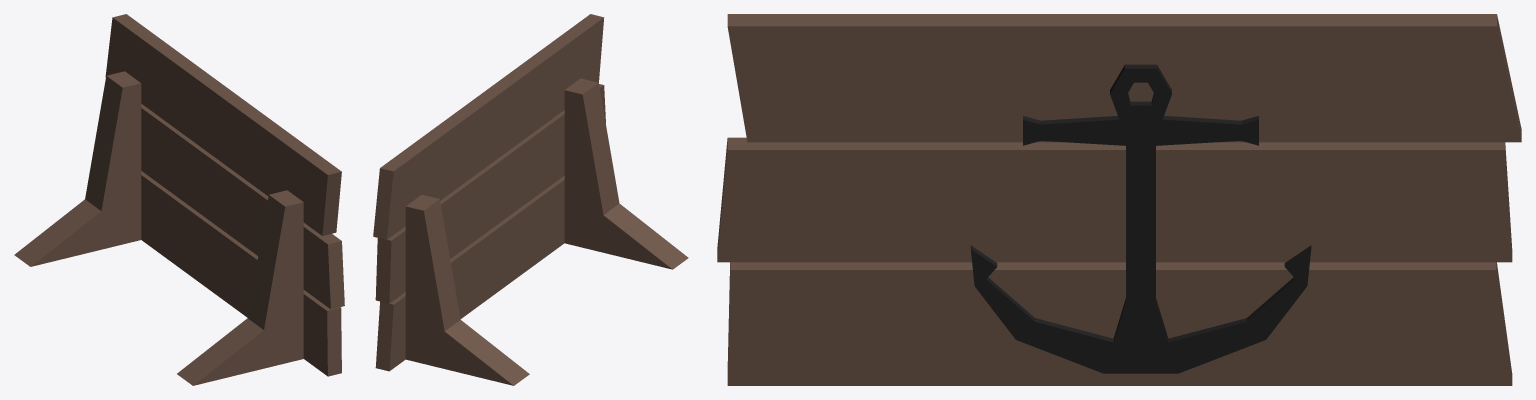
The model's file is AnchorSign.fbx.
3 renders of one model, left to right at view 1: azimuth 30°, elevation 25°; view 2: azimuth 150°, elevation 25°; view 3: azimuth 270°, elevation 25°, orthographic. The views are drawn at different scales.
Visible parts, largest first — view 1: AnchorSign; view 2: AnchorSign; view 3: AnchorSign.
Boxes of the visible parts, x1,y1,x2,y2 form: AnchorSign: [14, 14, 344, 385]; AnchorSign: [373, 14, 688, 385]; AnchorSign: [717, 14, 1521, 385].
Size of the model in its own units: 0.3976 by 1.2 by 0.5924.
